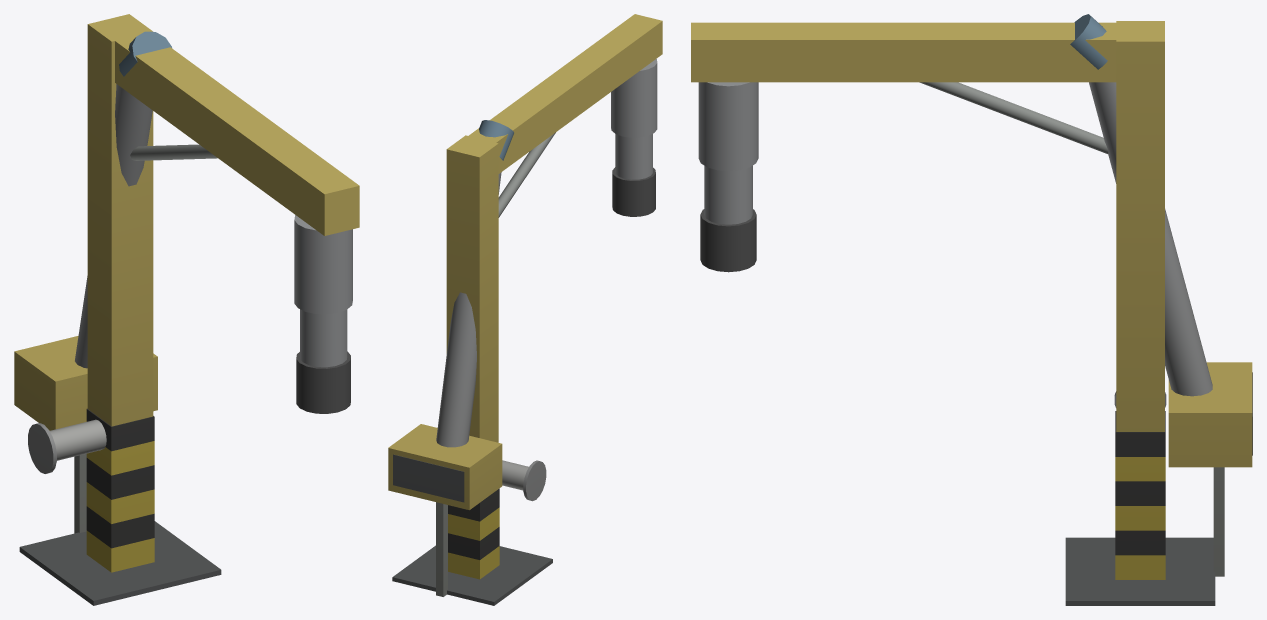
The model's file is lgChute_steel.glb.
3 views of the same model, side by side, from view 1: azimuth 30°, elevation 25°; view 2: azimuth 150°, elevation 25°; view 3: azimuth 270°, elevation 25° (orthographic). The views are drawn at different scales.
Parts seen in each view (by area): view 1: lgChute_steel; view 2: lgChute_steel; view 3: lgChute_steel.
Part boxes in pixels (left/top/right/bottom): lgChute_steel: left=14, top=14, right=359, bottom=605; lgChute_steel: left=388, top=14, right=662, bottom=605; lgChute_steel: left=691, top=14, right=1252, bottom=605.
Bounding box in the file's own units: 0.9 × 3.28 × 3.
